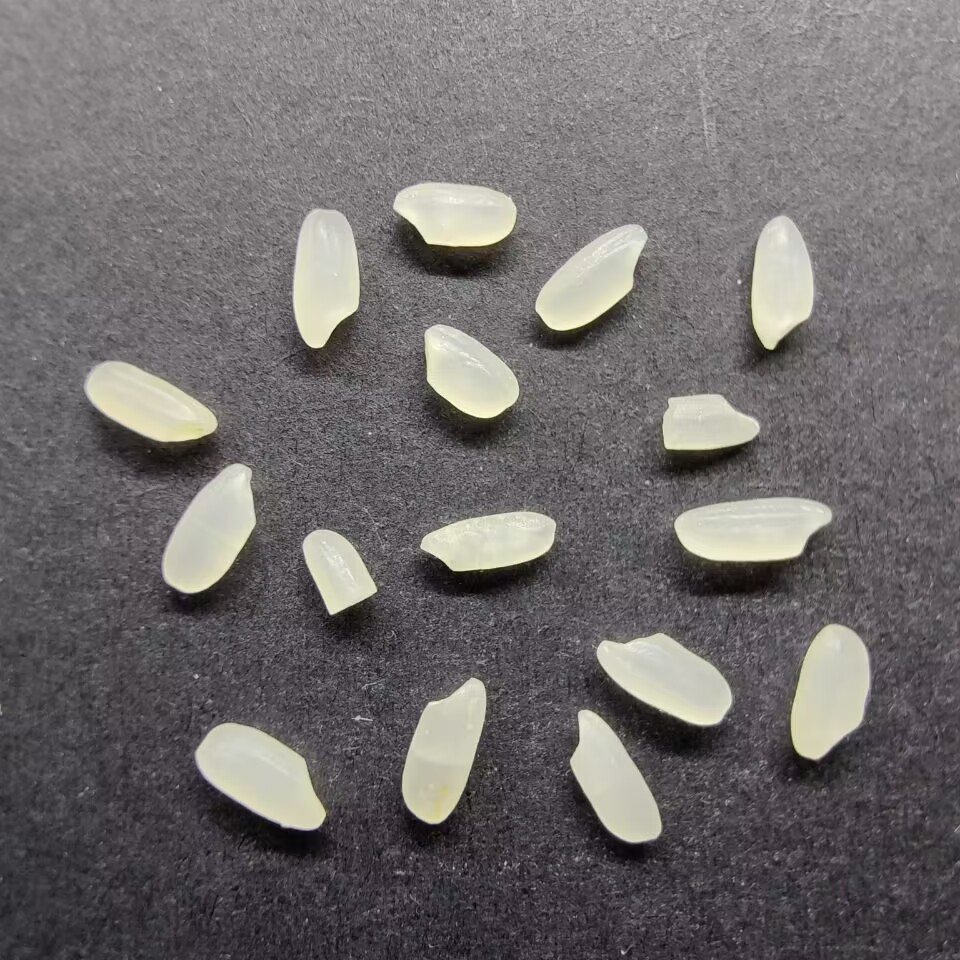broken: (300, 528, 378, 616), (659, 391, 761, 454)
rice: (193, 720, 329, 832), (565, 708, 667, 844), (399, 672, 486, 826), (595, 631, 733, 727), (160, 461, 256, 596), (533, 222, 647, 333), (83, 359, 218, 445), (789, 622, 870, 760), (672, 498, 837, 560), (291, 204, 360, 351), (422, 323, 521, 419), (418, 510, 558, 573), (753, 213, 815, 350), (393, 180, 517, 247)
